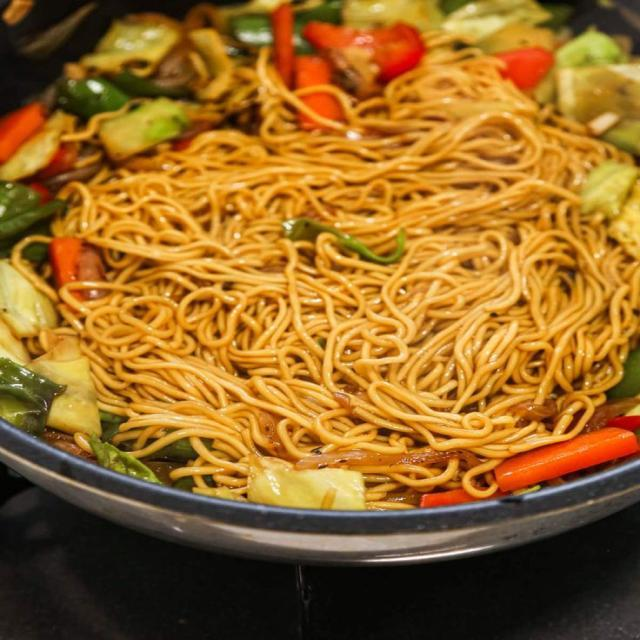pancit bihon: (0, 0, 637, 558)
